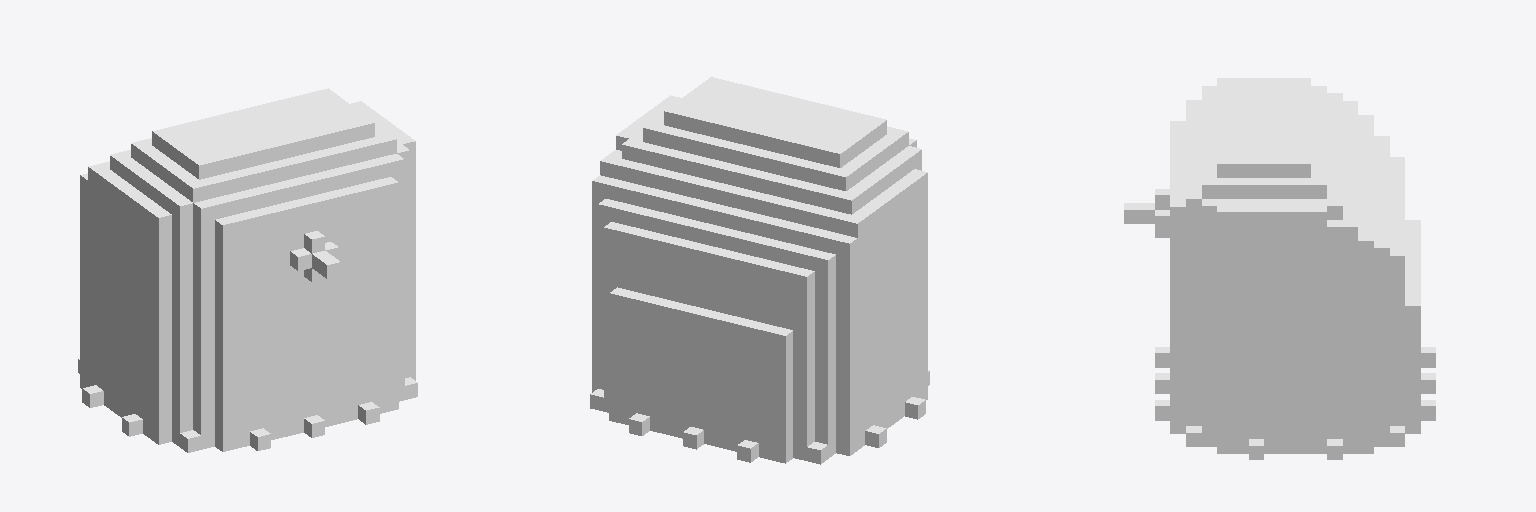
File: Helm.obj
3 views of the same model, side by side, from view 1: azimuth 30°, elevation 25°; view 2: azimuth 150°, elevation 25°; view 3: azimuth 270°, elevation 25° (orthographic).
Visible parts, largest first — view 1: object 1; view 2: object 1; view 3: object 1.
Boxes of the visible parts, x1=… form: object 1: x1=78, y1=88, x2=417, y2=452; object 1: x1=590, y1=77, x2=929, y2=464; object 1: x1=1124, y1=78, x2=1435, y2=459.
Size of the model in its own units: 2.1 by 1.9 by 2.